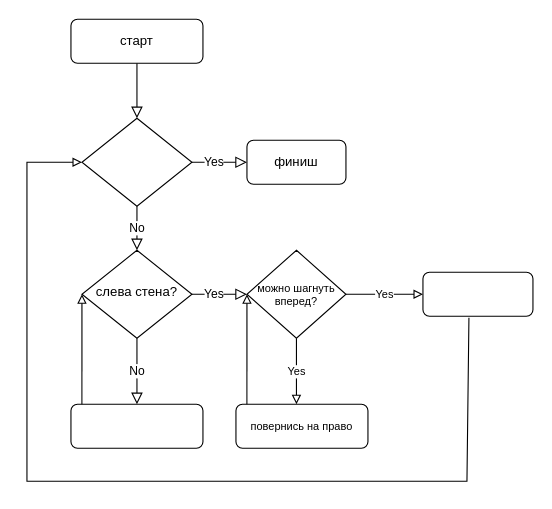
This 552x509 diagram has some shape labels left out. The box of each missing label's shape, as (x1, y1, x2, y2) in pixels:
вы вышли из лабиринта?: (81, 117, 192, 206)
повернись на лево и сделай шаг вперед: (70, 403, 203, 448)
сделай шаг: (422, 271, 533, 316)
